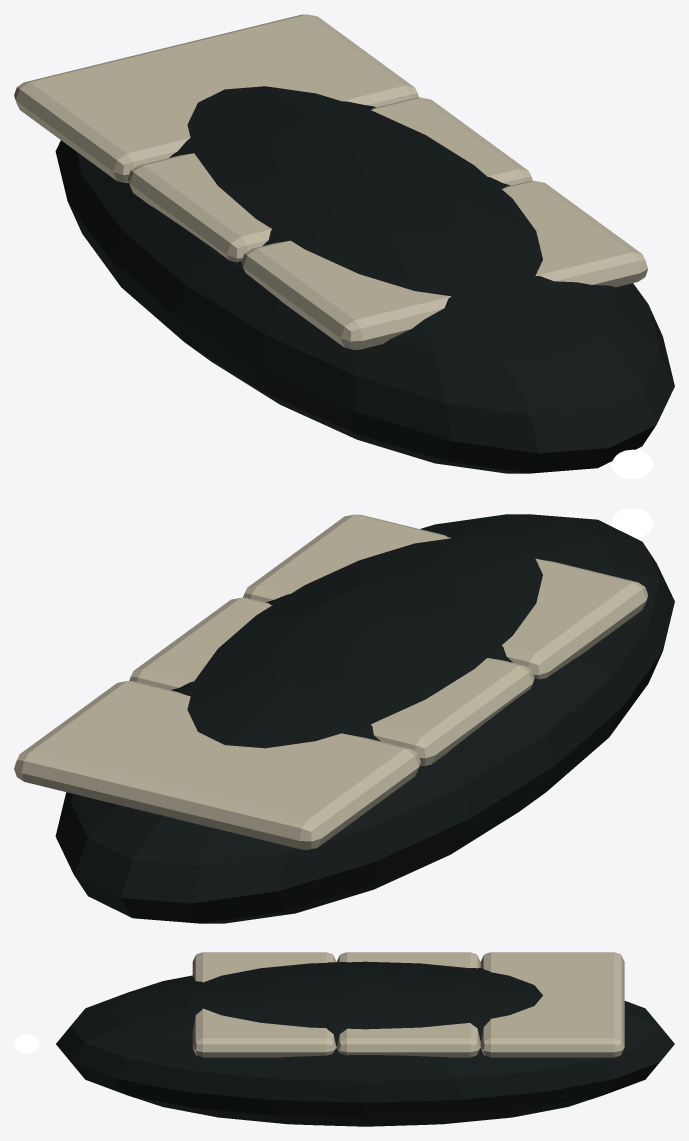
The picture shows the model from 3 angles, top to bottom: view 1: azimuth 30°, elevation 25°; view 2: azimuth 150°, elevation 25°; view 3: azimuth 270°, elevation 25°; orthographic projection. The views are drawn at different scales.
Visible parts, largest first — view 1: RIMWARD_HULL, RIMWARD_ENGINE_GLOW; view 2: RIMWARD_HULL, RIMWARD_ENGINE_GLOW; view 3: RIMWARD_HULL, RIMWARD_ENGINE_GLOW.
Boxes of the visible parts, x1,y1,x2,y2 form: RIMWARD_HULL: [14, 14, 674, 473]; RIMWARD_ENGINE_GLOW: [611, 449, 653, 479]; RIMWARD_HULL: [14, 514, 674, 923]; RIMWARD_ENGINE_GLOW: [611, 508, 653, 537]; RIMWARD_HULL: [56, 952, 674, 1126]; RIMWARD_ENGINE_GLOW: [14, 1034, 39, 1053].
Bounding box in the file's own units: 3.01 × 1.42 × 7.16.
